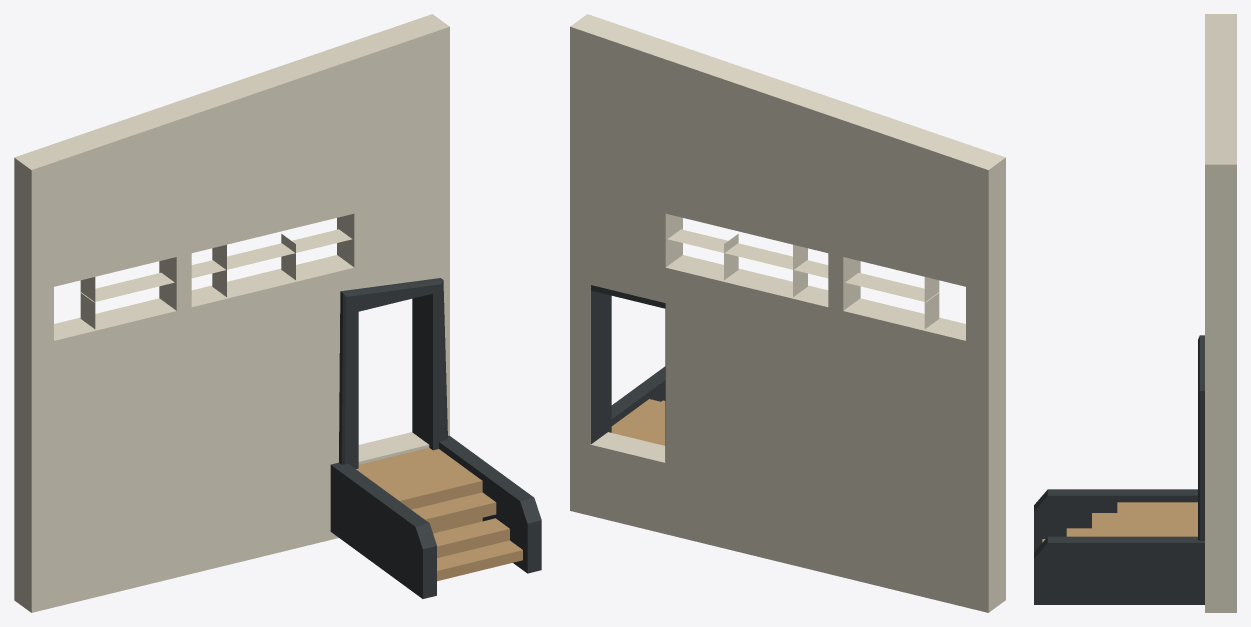
Rendered from wall_right.fbx.
The picture shows the model from 3 angles, left to right: view 1: azimuth 30°, elevation 25°; view 2: azimuth 150°, elevation 25°; view 3: azimuth 270°, elevation 25°; orthographic projection. The views are drawn at different scales.
Visible parts, largest first — view 1: Cube.015; view 2: Cube.015; view 3: Cube.015.
Boxes of the visible parts, x1,y1,x2,y2 form: Cube.015: (14,14,541,612); Cube.015: (570,14,1005,612); Cube.015: (1034,14,1236,612).
Size of the model in its own units: 2296 by 2539 by 1041.
